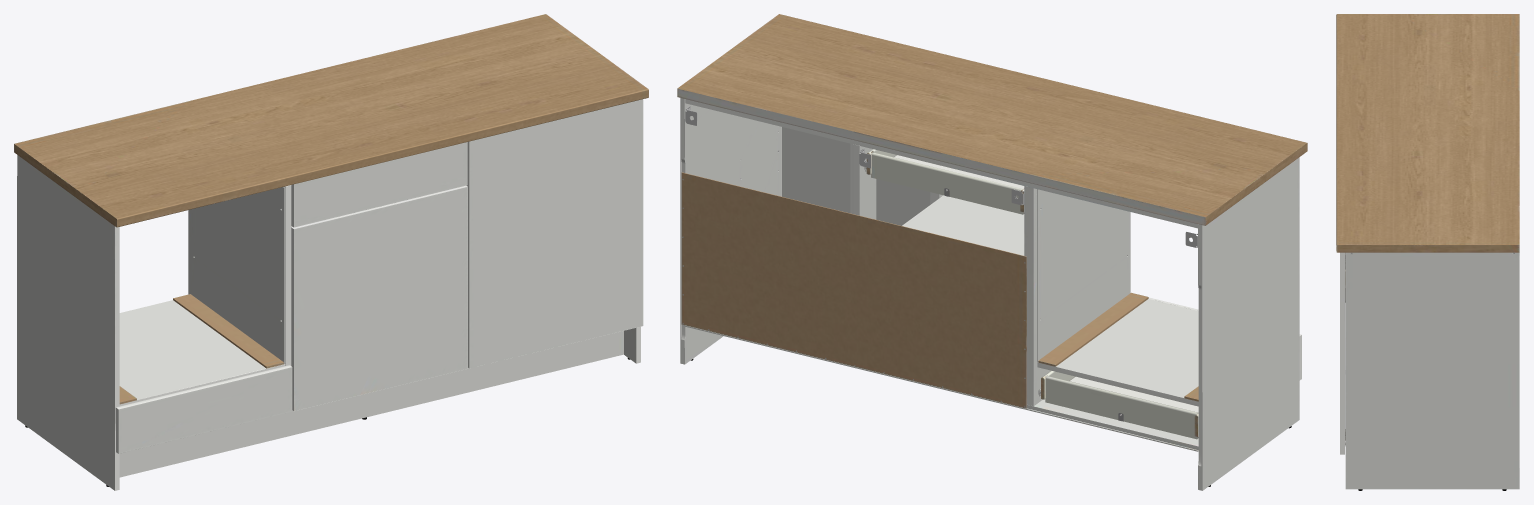
The model's file is knoxhult_szafka_stojaca_drzwi_szuflada_70326788.glb.
3 views of the same model, side by side, from view 1: azimuth 30°, elevation 25°; view 2: azimuth 150°, elevation 25°; view 3: azimuth 270°, elevation 25° (orthographic). The views are drawn at different scales.
Parts seen in each view (by area): view 1: knoxhult_szafka_stojaca_drzwi_szuflada_70326788; view 2: knoxhult_szafka_stojaca_drzwi_szuflada_70326788; view 3: knoxhult_szafka_stojaca_drzwi_szuflada_70326788.
Part boxes in pixels (x1,y1,x2,y2): knoxhult_szafka_stojaca_drzwi_szuflada_70326788: (14,14,648,490); knoxhult_szafka_stojaca_drzwi_szuflada_70326788: (677,14,1307,490); knoxhult_szafka_stojaca_drzwi_szuflada_70326788: (1336,14,1519,490).
Bounding box in the file's own units: 1.82 × 0.9096 × 0.6102.
2 materials, 2 textured.
